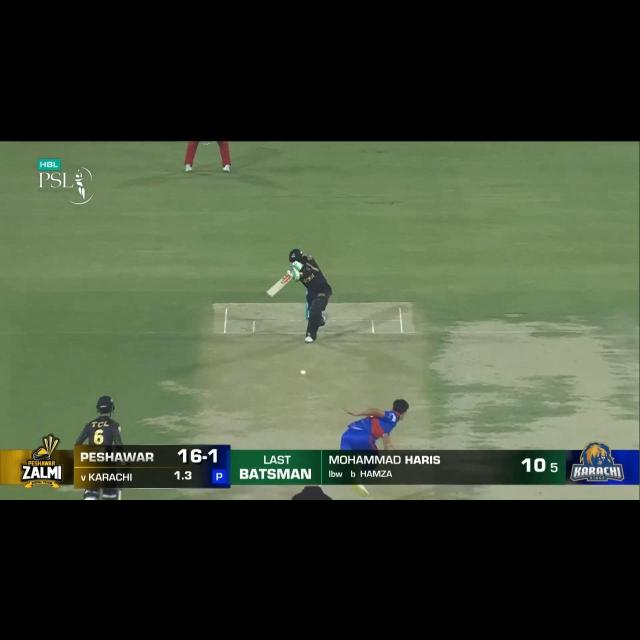bat: (266, 275, 291, 301)
toe: (266, 288, 272, 298)
